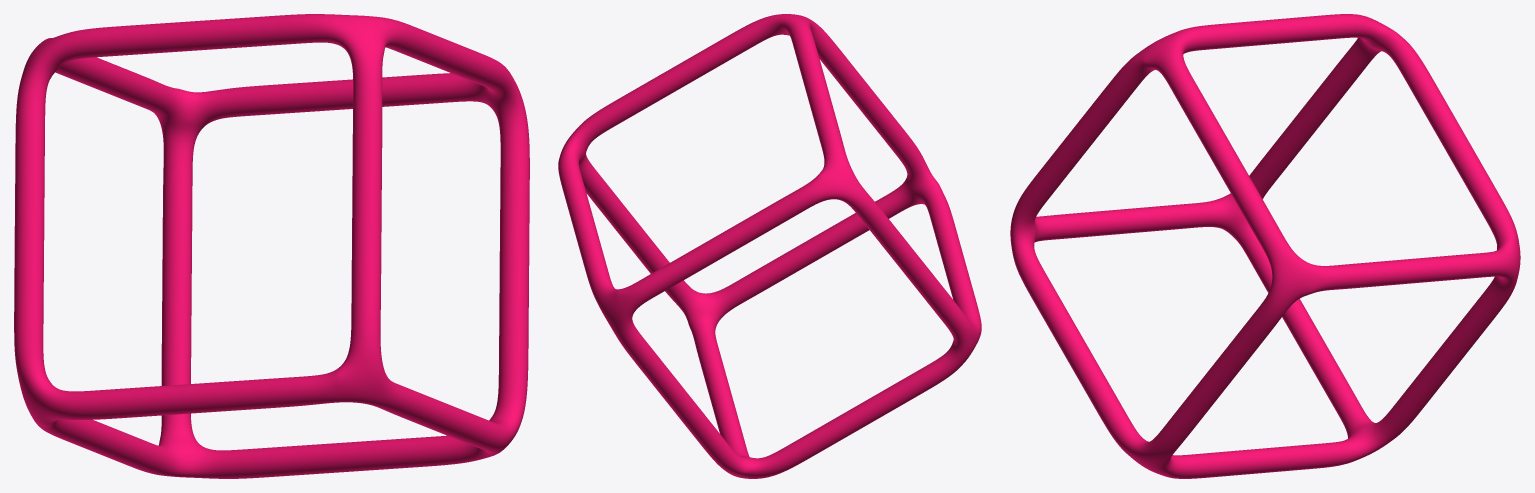
File: Cube_wireframe.glb
3 views of the same model, side by side, from view 1: azimuth 30°, elevation 25°; view 2: azimuth 150°, elevation 25°; view 3: azimuth 270°, elevation 25° (orthographic). The views are drawn at different scales.
Visible parts, largest first — view 1: Cube_wireframe.001; view 2: Cube_wireframe.001; view 3: Cube_wireframe.001.
Boxes of the visible parts, x1=… form: Cube_wireframe.001: x1=14, y1=14, x2=529, y2=478; Cube_wireframe.001: x1=558, y1=14, x2=981, y2=478; Cube_wireframe.001: x1=1010, y1=14, x2=1520, y2=478.
Bounding box in the file's own units: 2.75 × 2.66 × 2.8.
